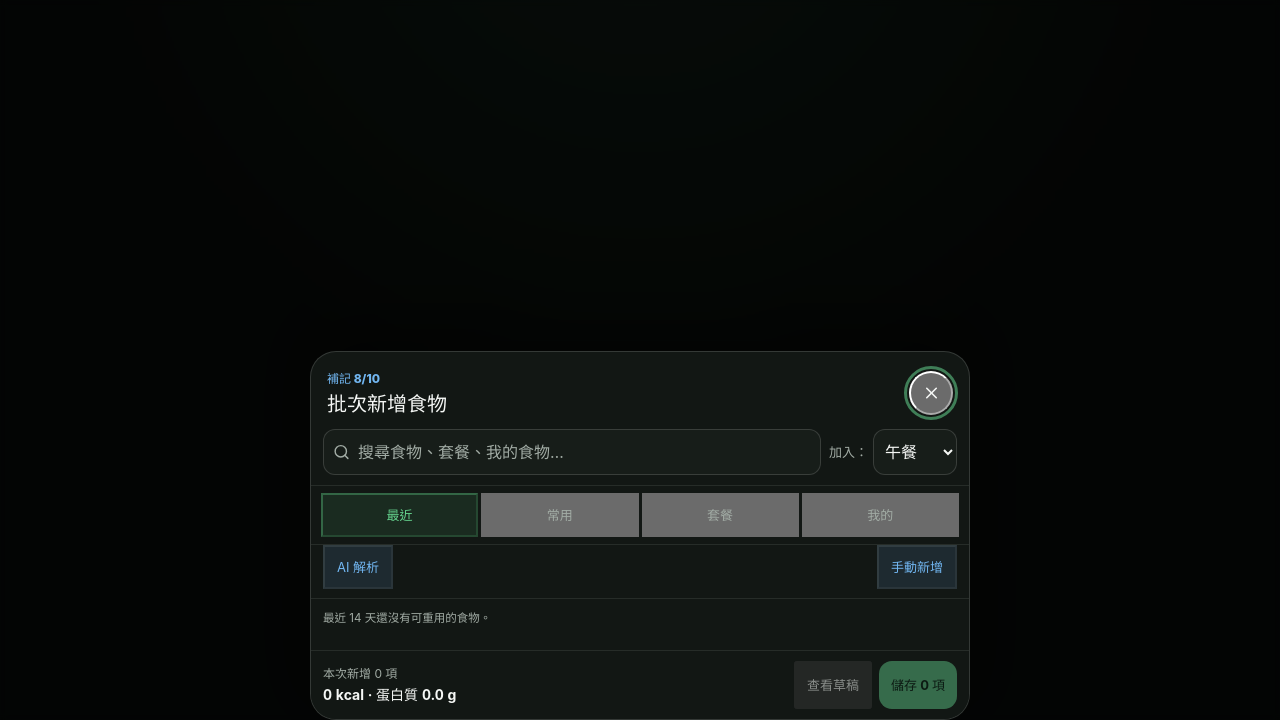
Test: FoodAddSheet batch draft interactions › retains every draft row when the legacy DailyLog write fails
Click the button "常用" at (560, 515), box [481,493,639,537]
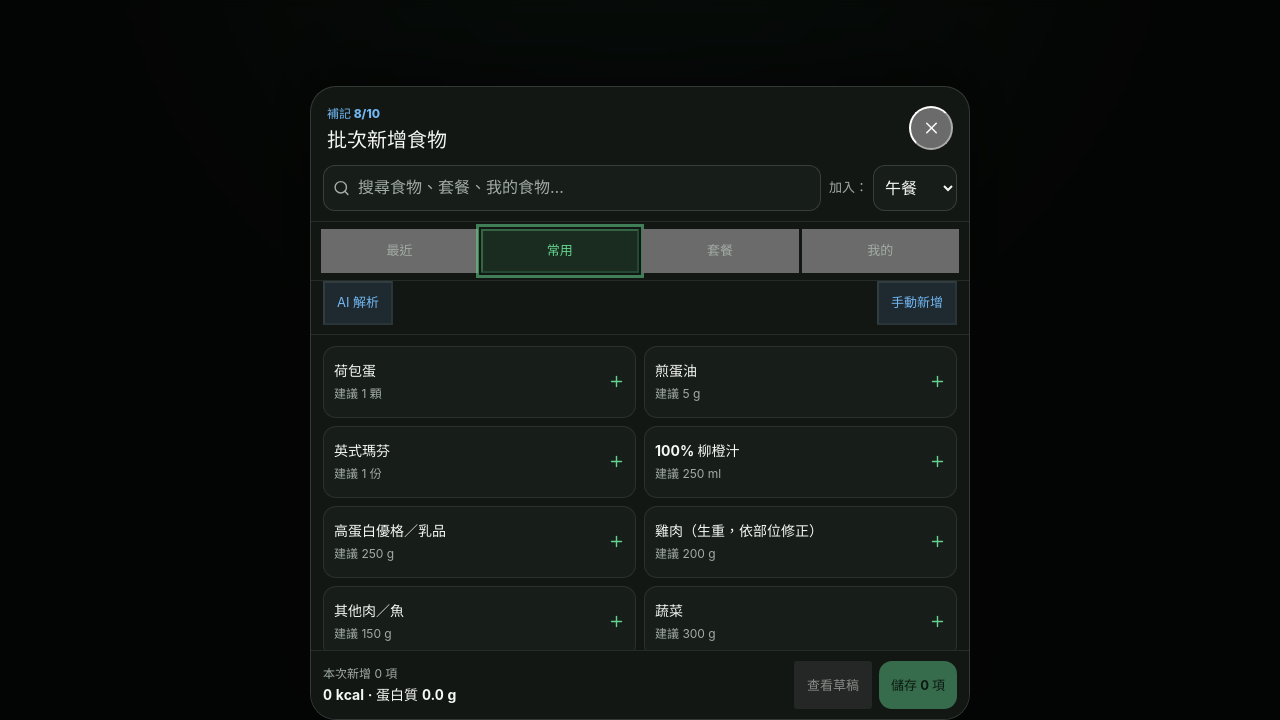
Click the button "雞肉（生重，依部位修正） 建議 200 g" at (800, 542), box [644,506,957,578]
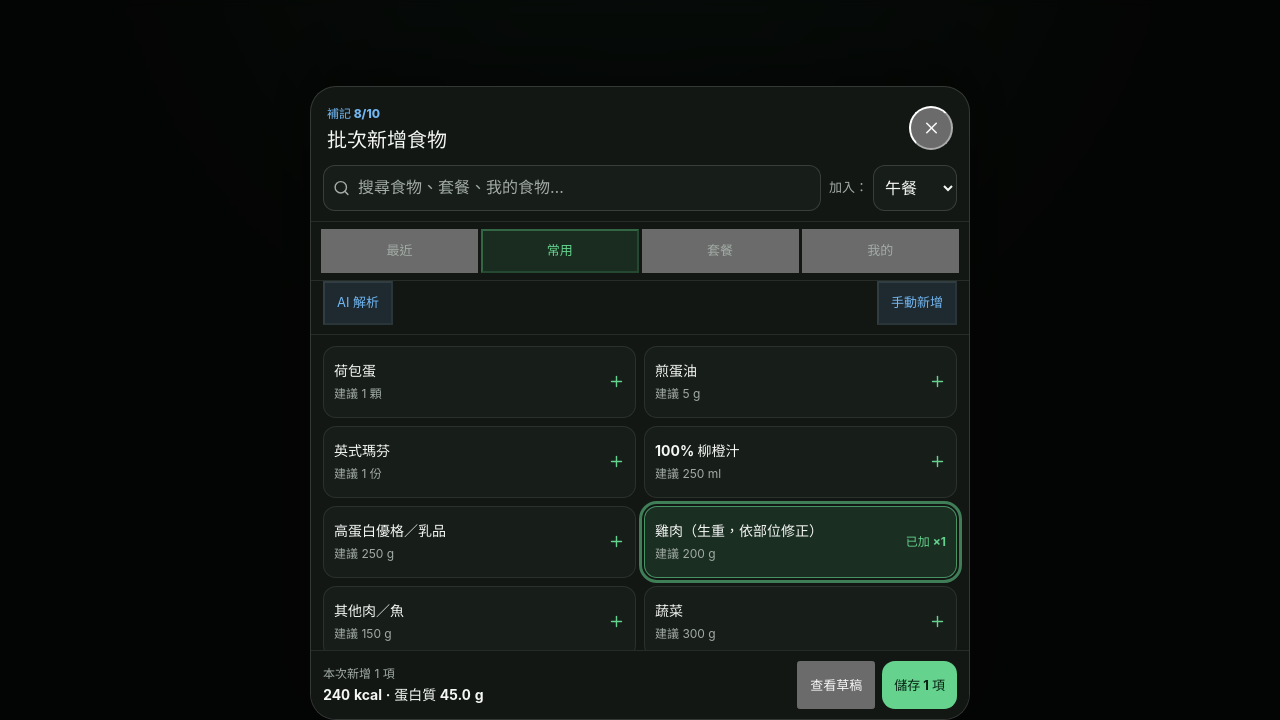
Click the button "儲存 1 項" at (920, 685), box [882,661,957,709]
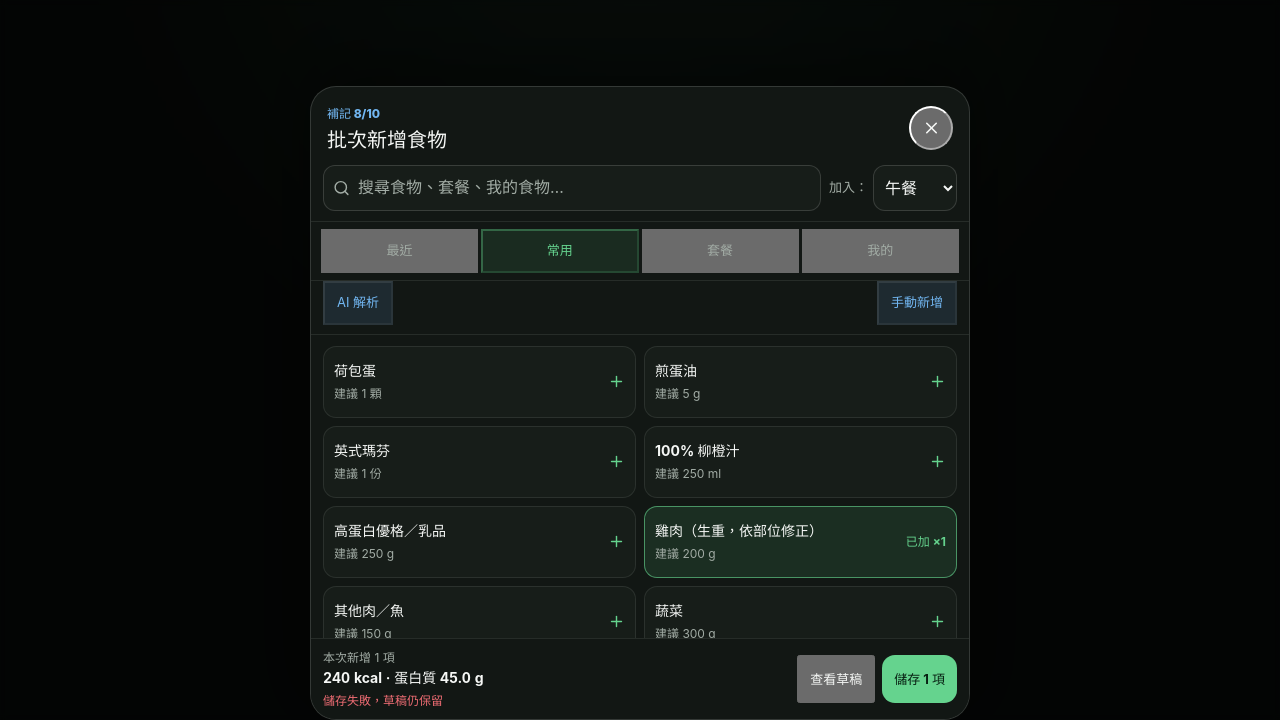
Expected: the button "儲存 1 項" is shown, [882,655,957,703]
Expected: the message reads "儲存失敗，草稿仍保留", [323,693,443,708]
